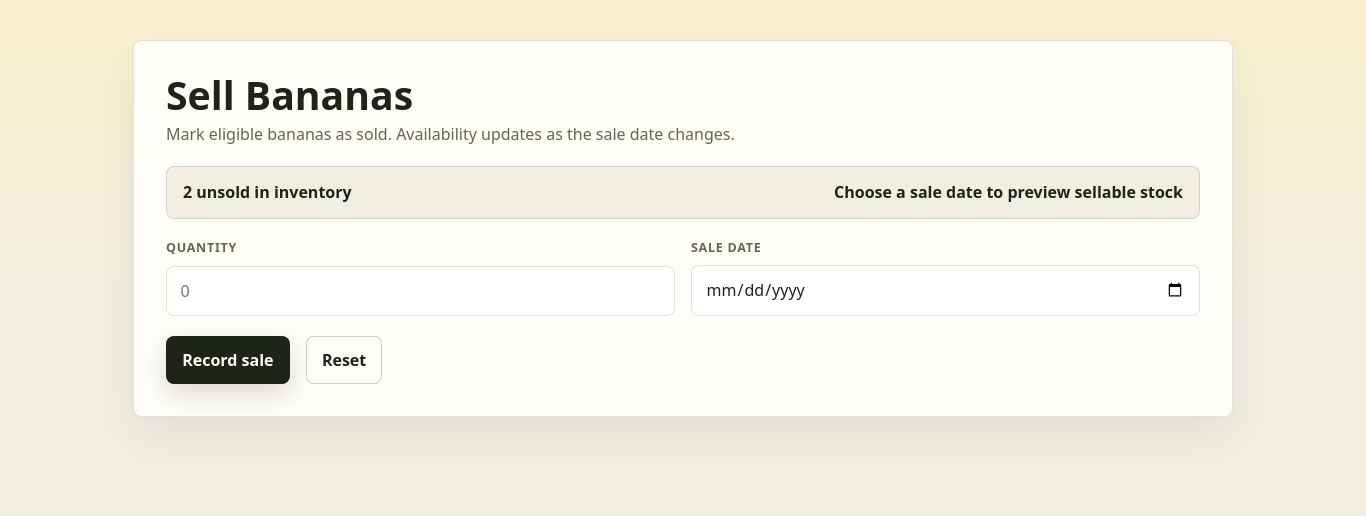
Test case: Sell › submits a valid sale request
Type "2026-03-05" into the date field labelled "Sale date" at (946, 290), box [691,265,1200,316]
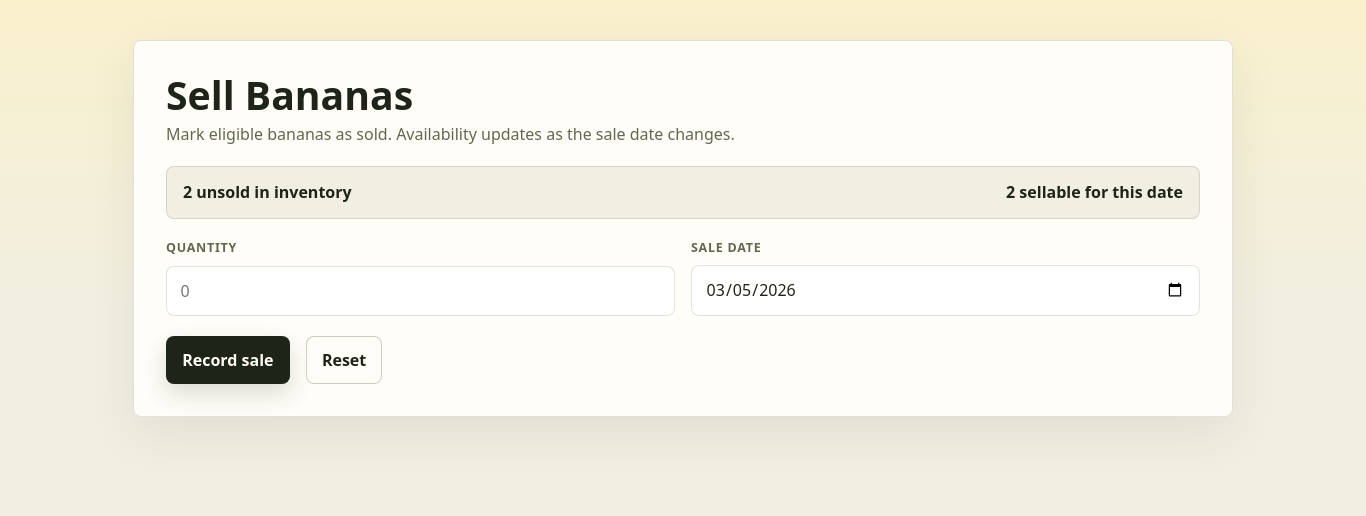
Type "2" into the number field labelled "Quantity" at (420, 291), box [166,266,675,316]
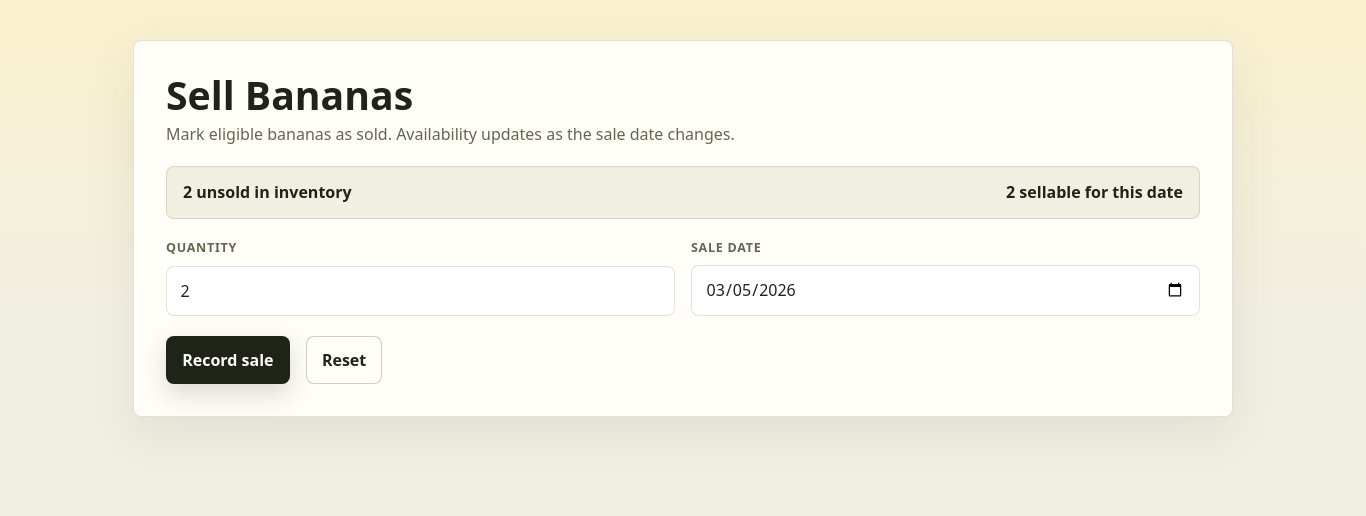
Click the button "Record sale" at (228, 360), box [166,336,290,384]
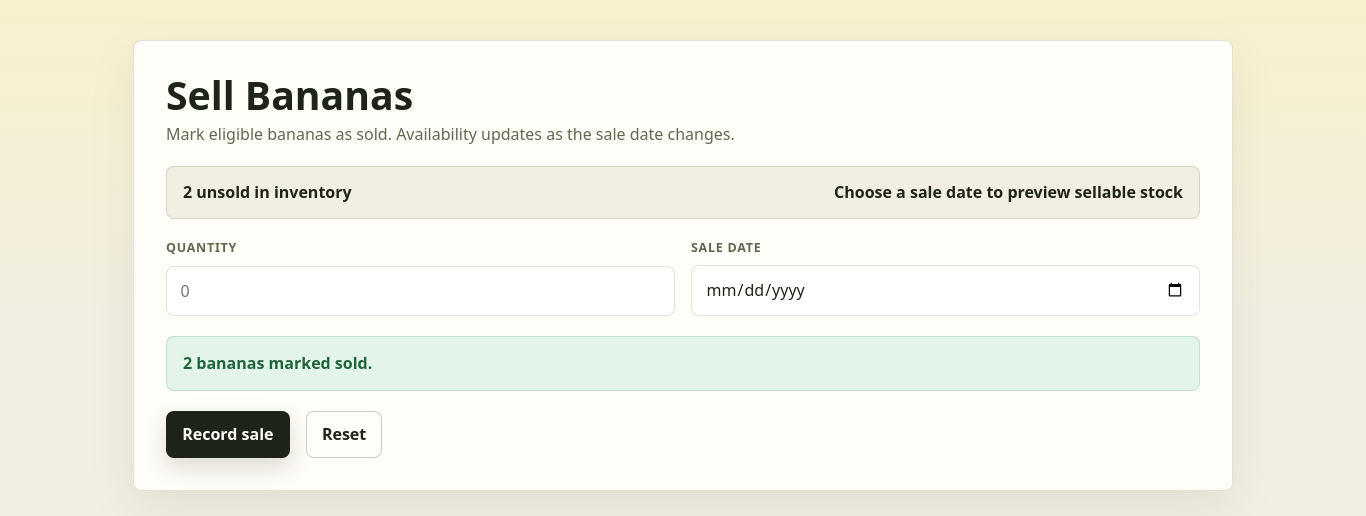
Expected: the text "2 bananas marked sold." is shown, [166,336,1200,391]
